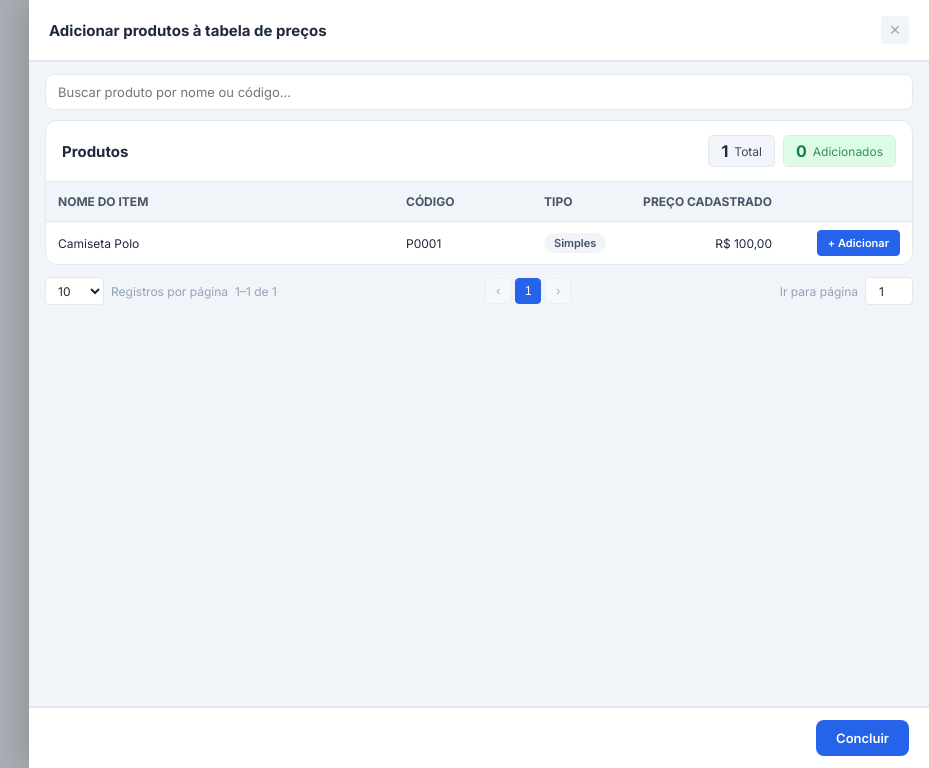
Test: AdicionarItensModal › discards a stale response that resolves after a newer, more specific request
The width and height of the screenshot is (929, 768).
Type "P" into the 1st field with test id "modal-busca".
click(479, 92); type("P")  # box [45, 74, 913, 110]
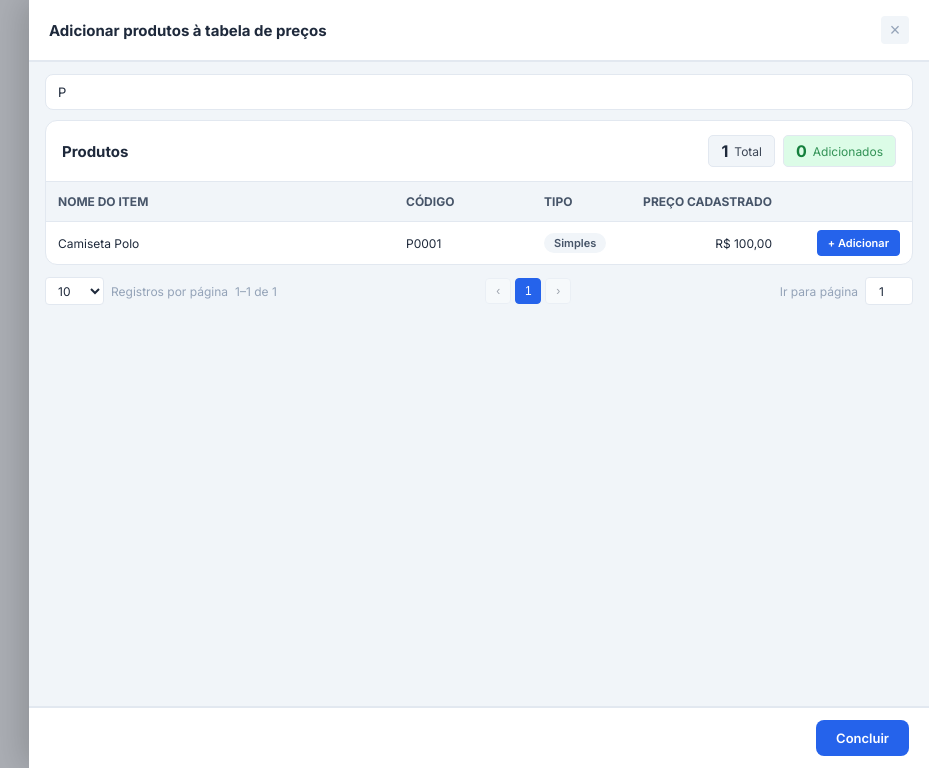
Replace the text in the 1st field with test id "modal-busca" with "P0001" at coordinates (479, 92), box [45, 74, 913, 110]
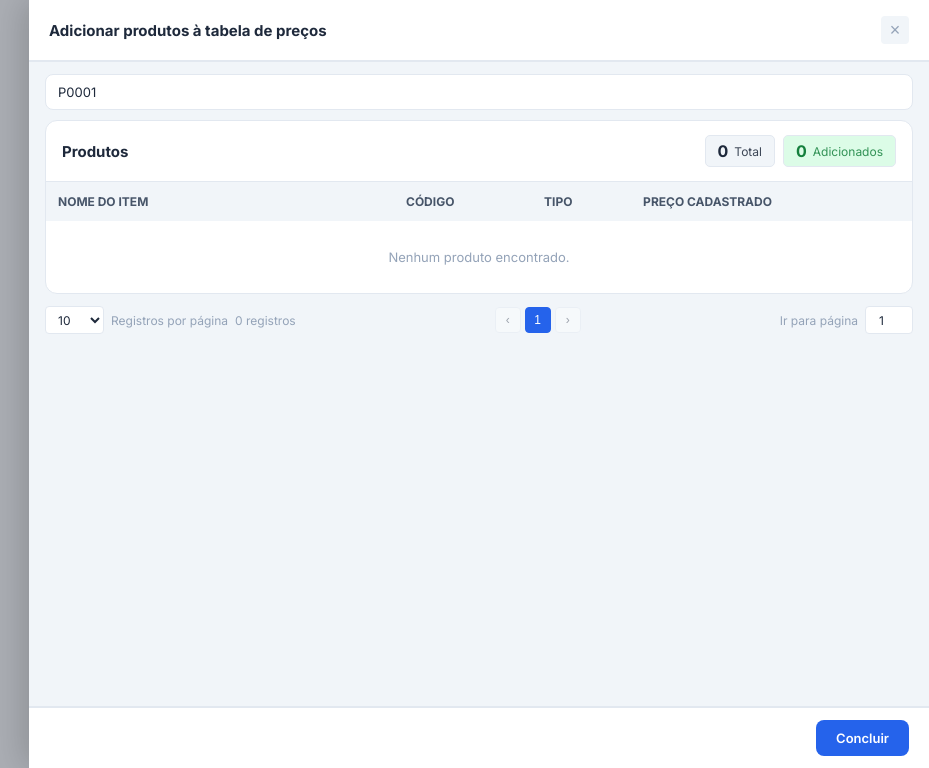
Expected: the text "Nenhum produto encontrado" is shown, [388, 249, 570, 265]
